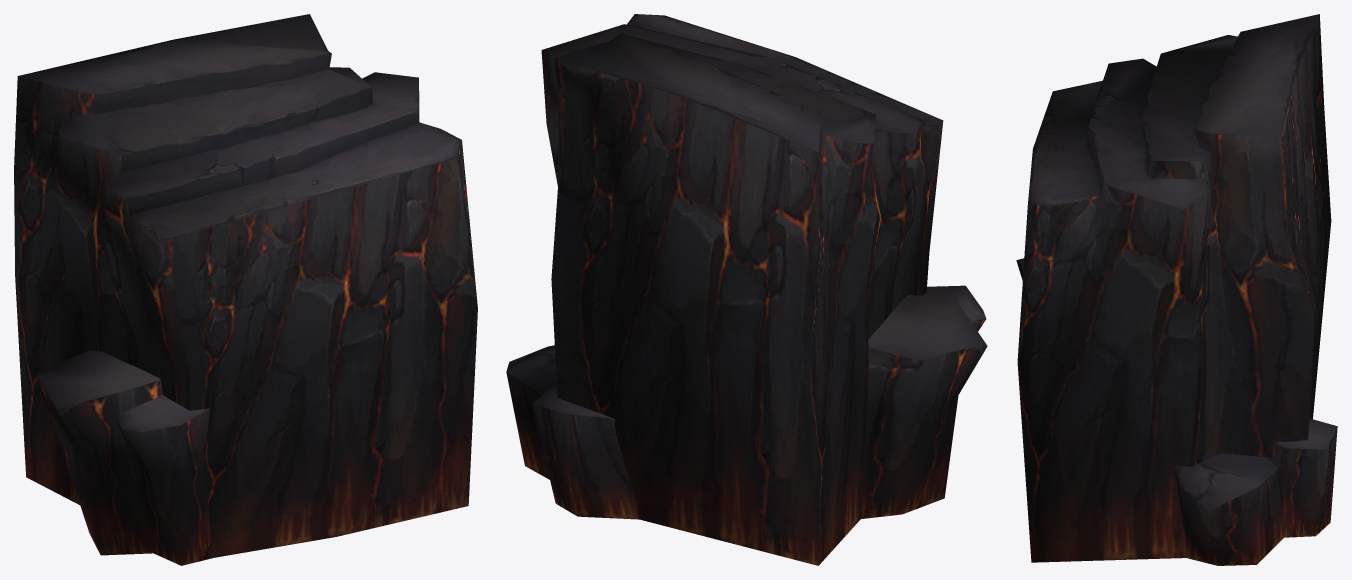
File: temple_floor.FBX
The picture shows the model from 3 angles, left to right: view 1: azimuth 30°, elevation 25°; view 2: azimuth 150°, elevation 25°; view 3: azimuth 270°, elevation 25°; orthographic projection. The views are drawn at different scales.
Visible parts, largest first — view 1: temple_floor; view 2: temple_floor; view 3: temple_floor.
Part boxes in pixels (left/top/right/bottom): temple_floor: left=14, top=14, right=477, bottom=565; temple_floor: left=506, top=14, right=987, bottom=565; temple_floor: left=1016, top=14, right=1337, bottom=565.
Size of the model in its own units: 670 by 639 by 453.
